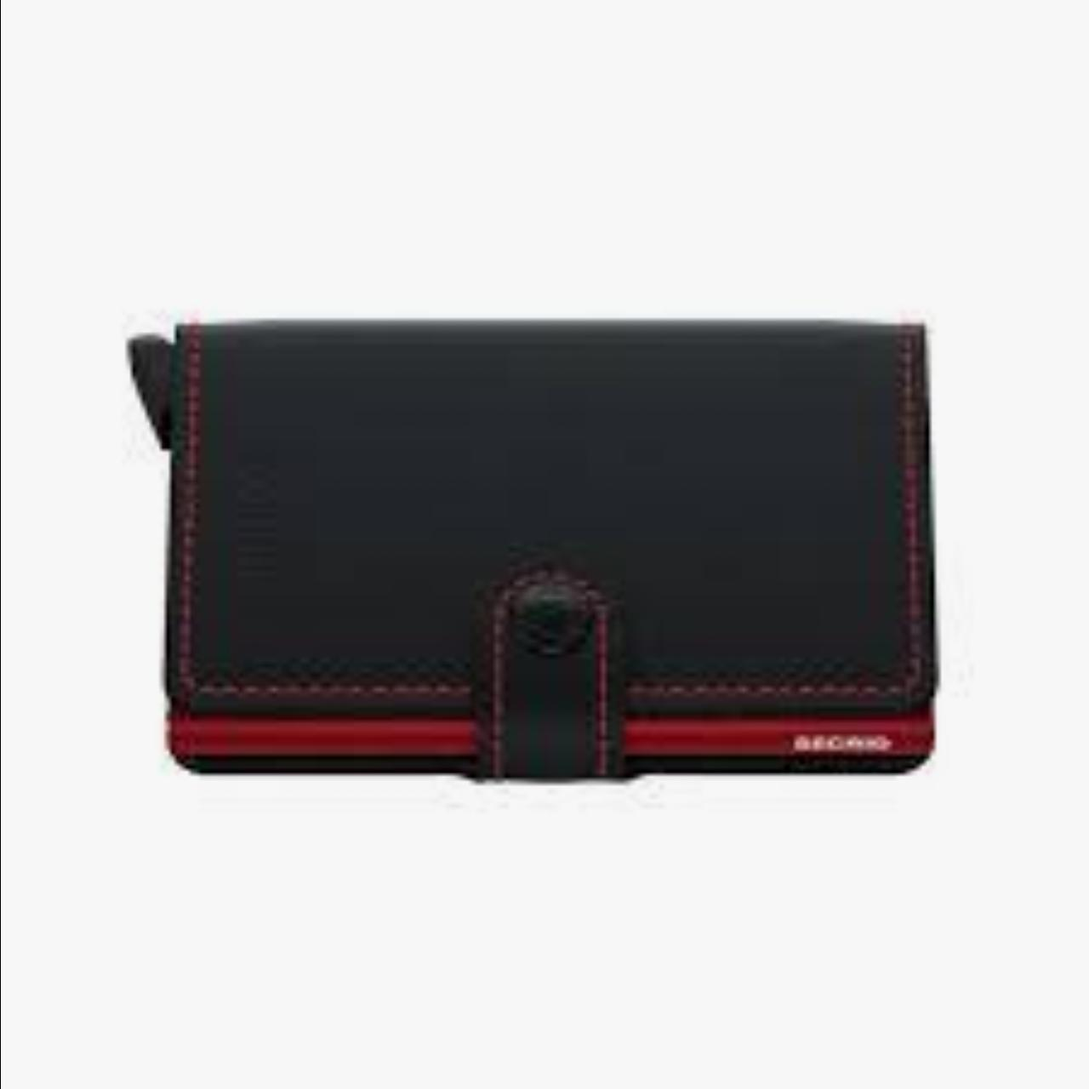wallet: (14, 220, 996, 980)
